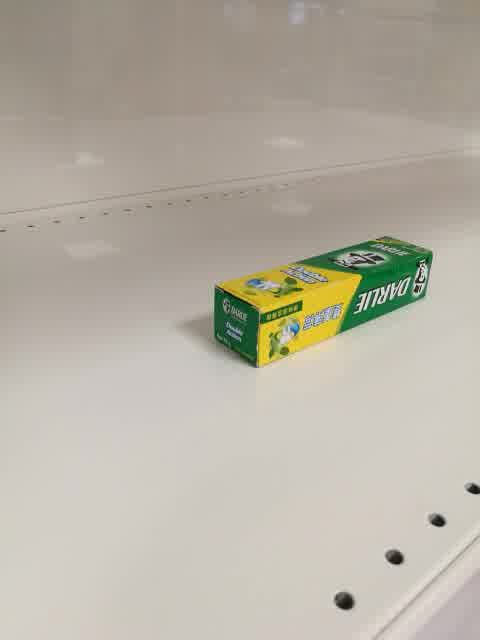toothpaste: (213, 236, 435, 368)
